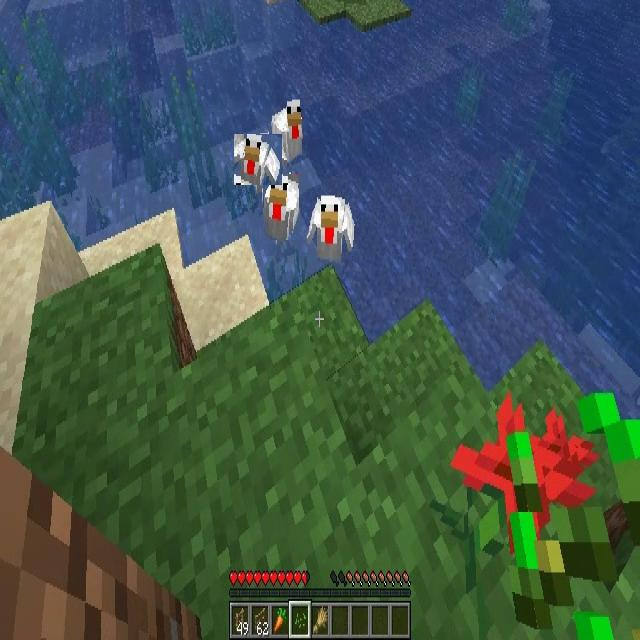duck: (306, 195, 356, 260), (234, 134, 282, 185), (264, 174, 300, 240), (270, 99, 302, 163)
